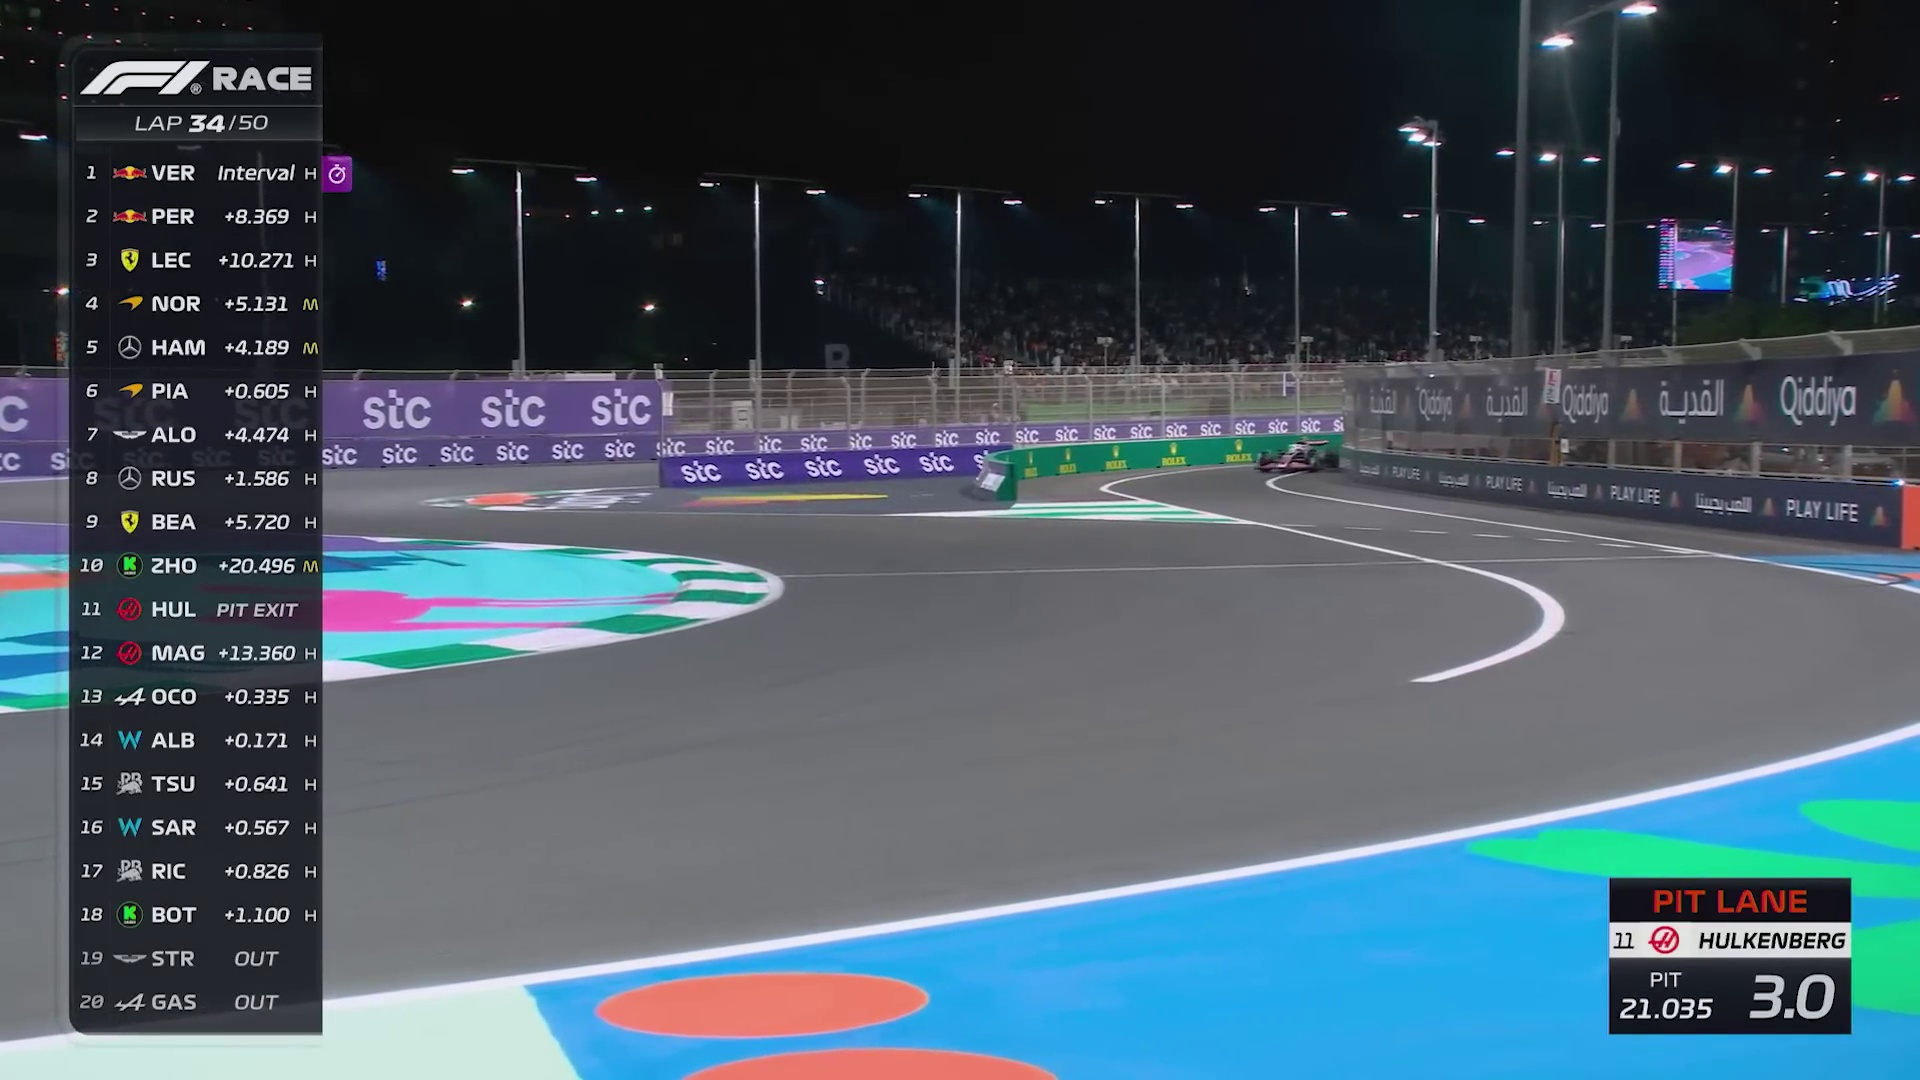Haas: (1258, 439, 1338, 472)
